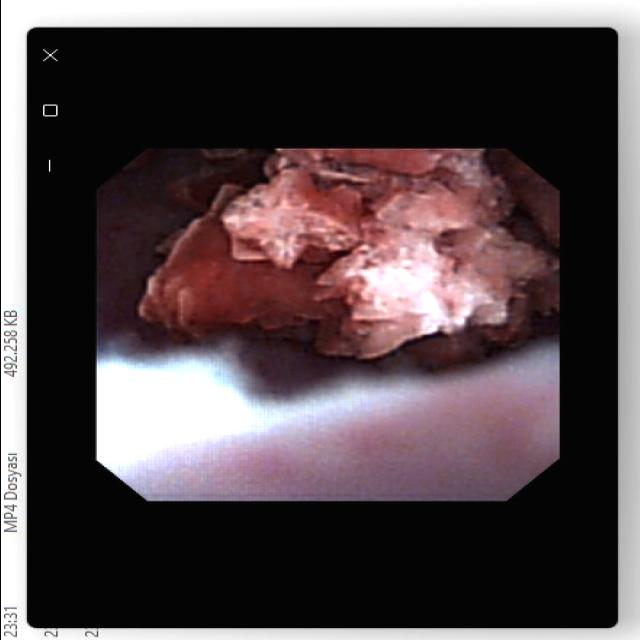stone: (140, 154, 553, 362)
